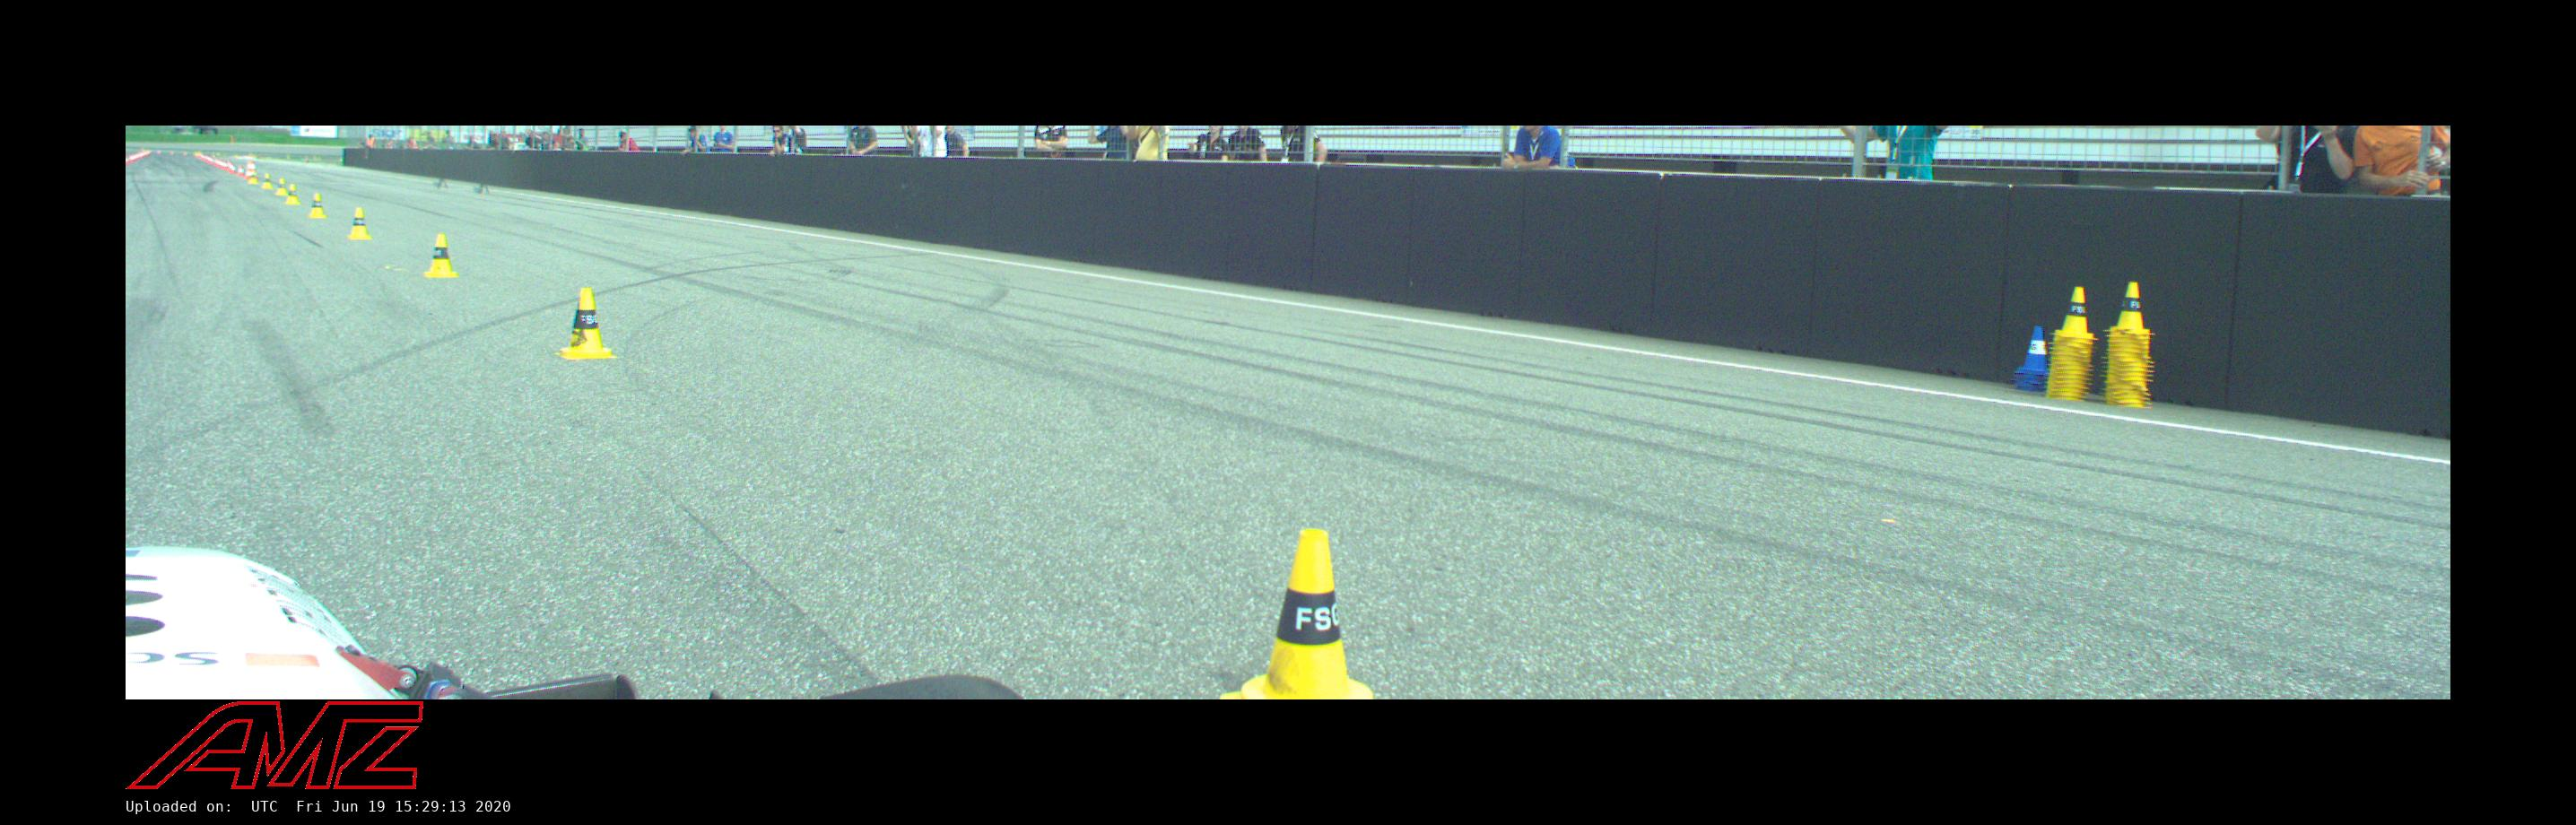blue_cone: (2017, 325, 2050, 371)
yellow_cone: (1222, 528, 1383, 697), (559, 289, 616, 358), (2106, 283, 2152, 332), (2052, 288, 2096, 339), (422, 233, 460, 276), (347, 209, 373, 240), (309, 194, 327, 219), (284, 184, 301, 205), (276, 179, 287, 194), (261, 173, 271, 189)
